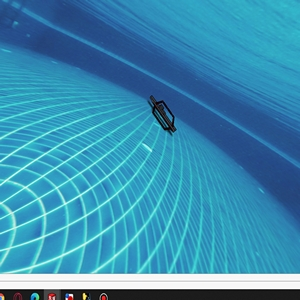submarine: (147, 96, 180, 134)
